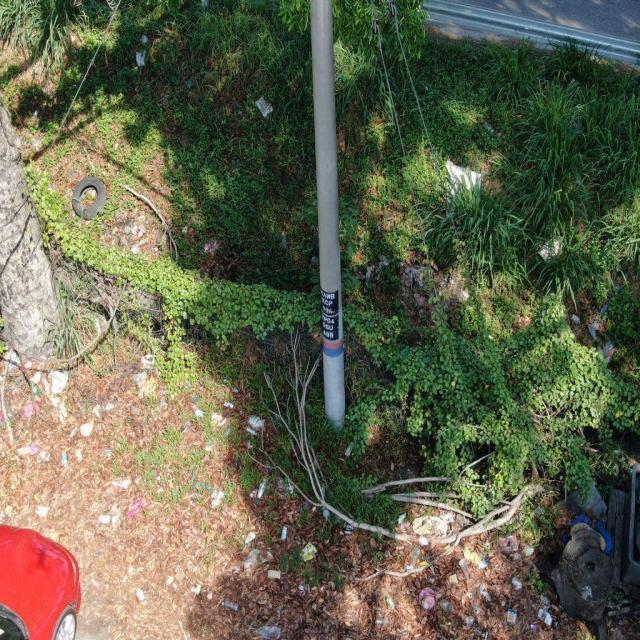critical vegetation: (416, 246, 521, 450)
